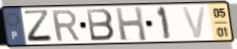1: (155, 6, 173, 42)
B: (85, 8, 117, 43)
H: (113, 6, 148, 42)
R: (50, 9, 82, 44)
V: (180, 5, 208, 40)
Z: (22, 9, 56, 44)
